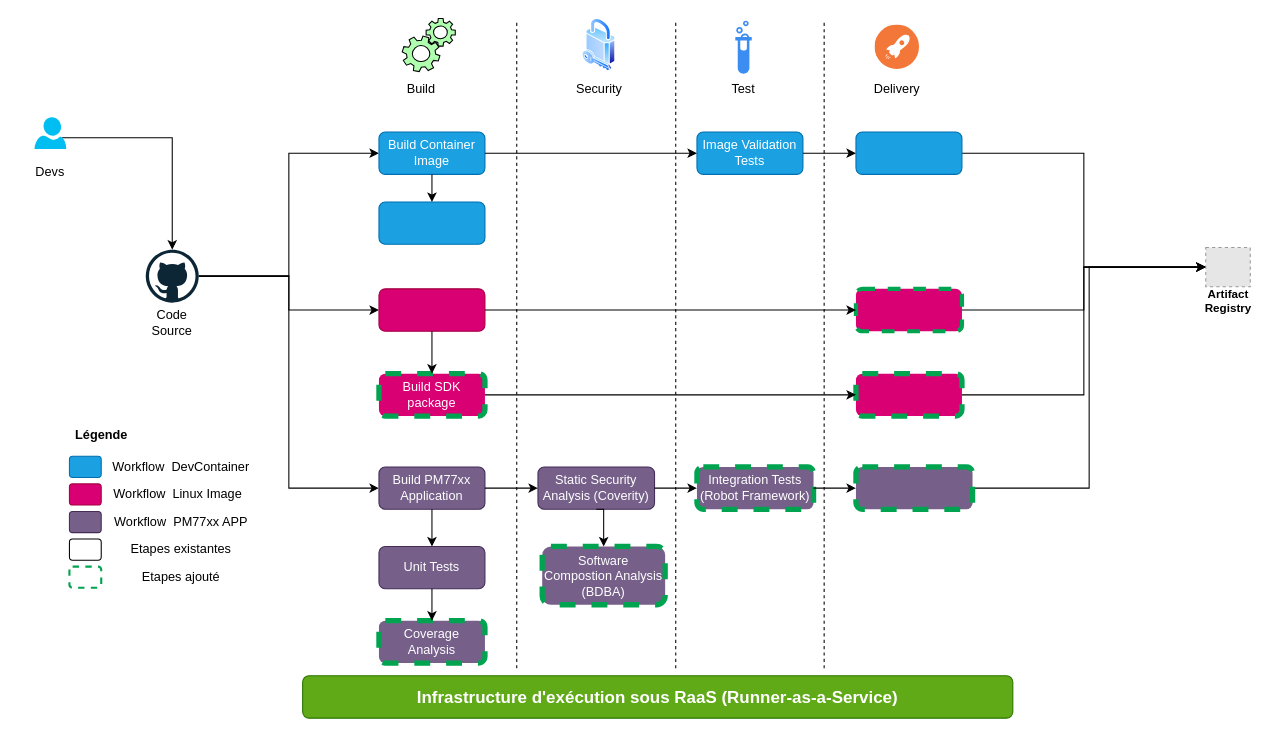
Image size: 1269x737. Some labels were removed from this diagram. Grey dashed boxes stand in for pictures. Each missing label, with the centre of its shape:
Build Yocto Images: (431,309)
Linting: (431,222)
Publish Application Artifact: (914,487)
Publish Docker Image: (908,152)
Publish SDK Artifact: (908,394)
Publish Yocto Image Artifact: (908,309)
